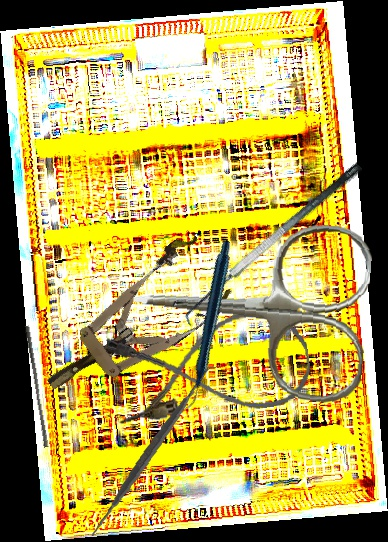Cannula: (105, 304, 315, 429)
Handpiece: (117, 238, 295, 411)
Iris Scissors: (126, 209, 375, 406)
Pusher: (20, 325, 53, 448)
Spatula Surgical: (174, 160, 376, 332), (65, 365, 237, 538)
Speculum: (24, 228, 241, 419)
